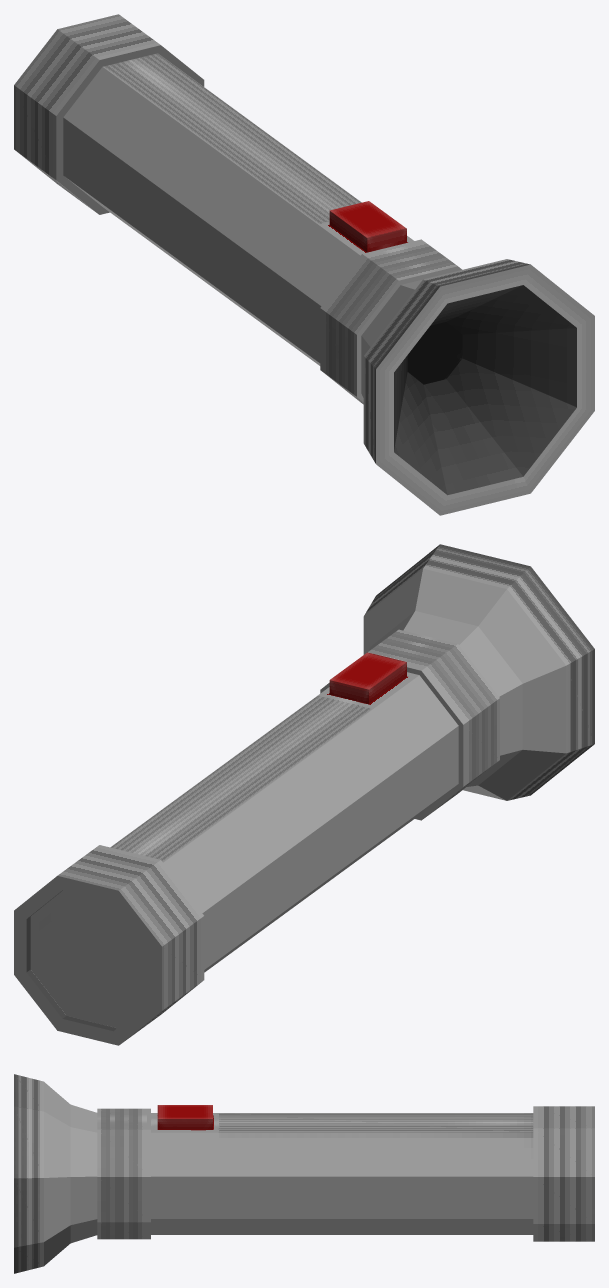
Rendered from falling_flashlight.glb.
The picture shows the model from 3 angles, top to bottom: view 1: azimuth 30°, elevation 25°; view 2: azimuth 150°, elevation 25°; view 3: azimuth 270°, elevation 25°; orthographic projection. The views are drawn at different scales.
Parts seen in each view (by area): view 1: Linterna; view 2: Linterna; view 3: Linterna.
Part boxes in pixels (bbox=[...]): Linterna: bbox=[14, 14, 594, 515]; Linterna: bbox=[14, 544, 594, 1045]; Linterna: bbox=[14, 1074, 594, 1273].
Bounding box in the file's own units: 0.0932 × 0.0932 × 0.2929.
Materials: 1 (1 with a texture image).
